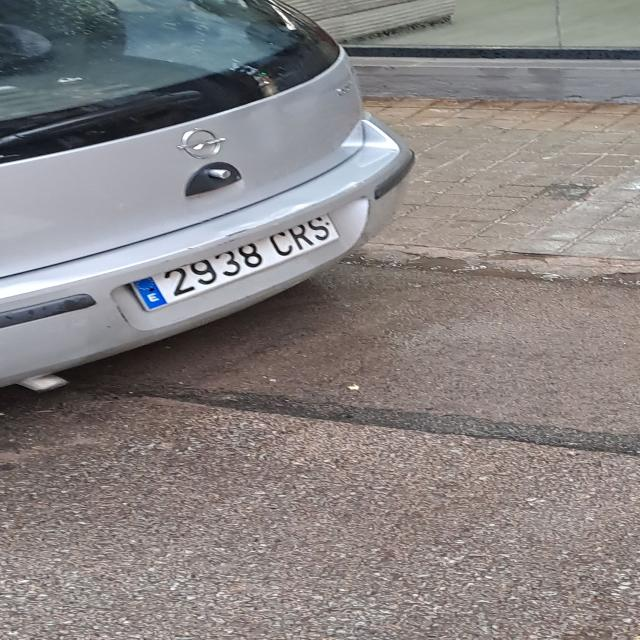license_plate-34Td: (126, 214, 339, 315)
